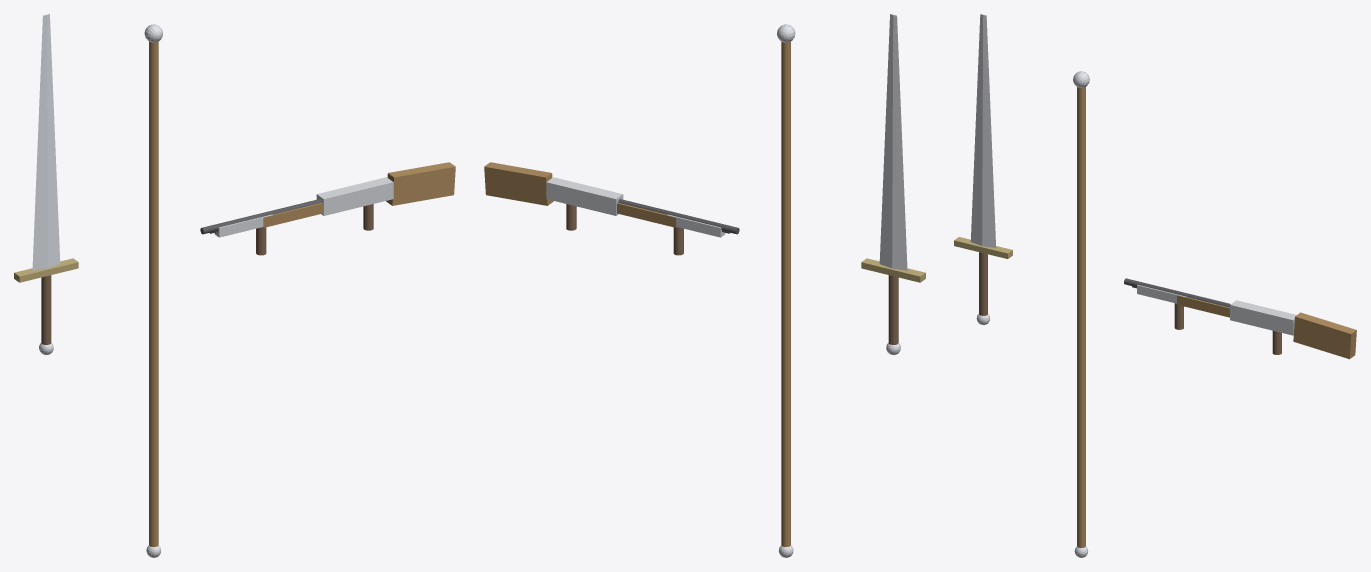
Rendered from weapons.glb.
3 views of the same model, side by side, from view 1: azimuth 30°, elevation 25°; view 2: azimuth 150°, elevation 25°; view 3: azimuth 330°, elevation 25° (orthographic). The views are drawn at different scales.
Visible parts, largest first — view 1: Sword2H, Rifle, Staff, Pistol; view 2: Sword2H, Rifle, Staff, Pistol; view 3: Sword2H, Rifle, Staff, Pistol.
Boxes of the visible parts, bbox=[...] form: Sword2H: bbox=[14, 14, 78, 355]; Rifle: bbox=[200, 162, 455, 234]; Staff: bbox=[144, 24, 162, 557]; Pistol: bbox=[210, 214, 272, 255]; Sword2H: bbox=[861, 14, 925, 355]; Rifle: bbox=[484, 162, 739, 234]; Staff: bbox=[777, 24, 795, 557]; Pistol: bbox=[667, 214, 729, 255]; Sword2H: bbox=[954, 14, 1012, 325]; Rifle: bbox=[1124, 278, 1356, 359]; Staff: bbox=[1073, 71, 1089, 557]; Pistol: bbox=[1132, 284, 1186, 329].
Bounding box in the file's own units: 1.62 × 2.02 × 0.06.
